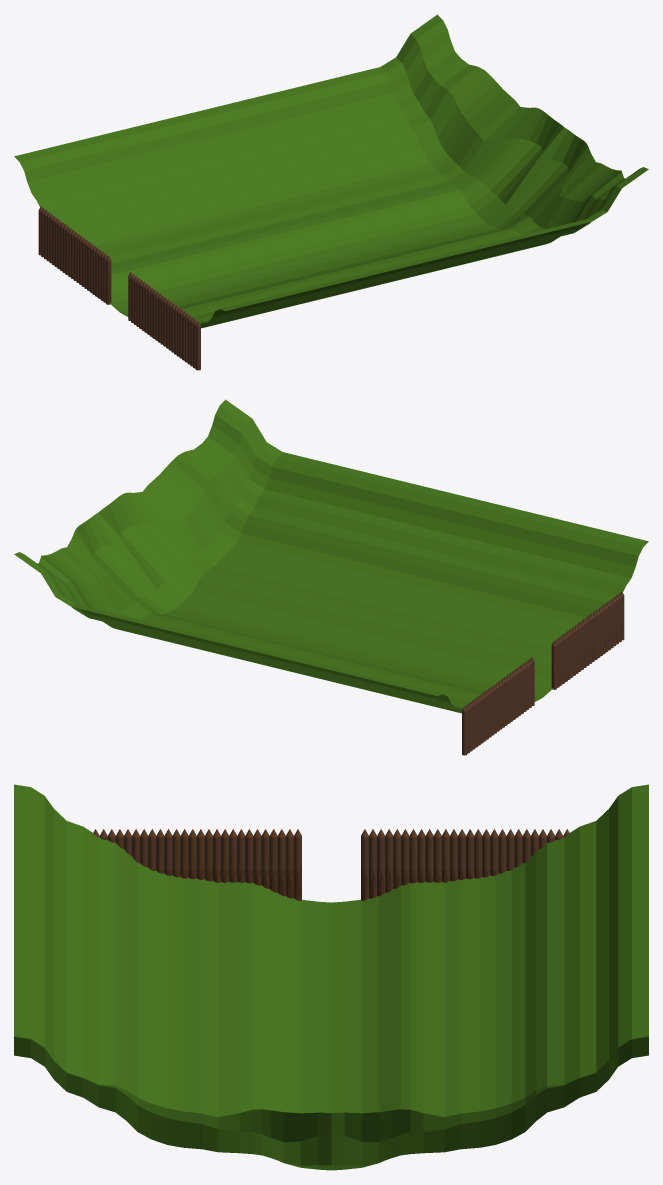
Rendered from river_start.fbx.
3 views of the same model, one above another, from view 1: azimuth 30°, elevation 25°; view 2: azimuth 150°, elevation 25°; view 3: azimuth 270°, elevation 25° (orthographic). The views are drawn at different scales.
Visible parts, largest first — view 1: Plane, Cylinder; view 2: Plane, Cylinder; view 3: Plane, Cylinder.
Boxes of the visible parts, x1,y1,x2,y2 form: Plane: (14,14,648,328); Cylinder: (38,206,200,370); Plane: (14,399,648,713); Cylinder: (462,591,624,755); Plane: (14,784,648,1170); Cylinder: (93,829,569,900).
Bounding box in the file's own units: 6103 × 1529 × 5000.
